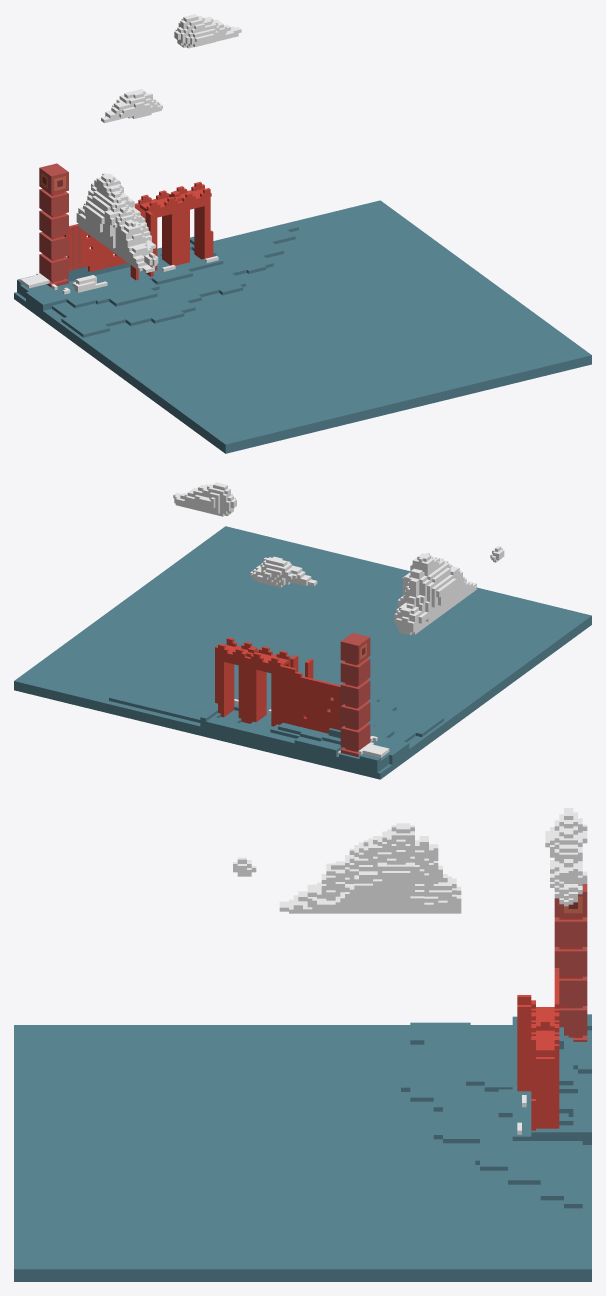
File: sea.fbx
3 views of the same model, one above another, from view 1: azimuth 30°, elevation 25°; view 2: azimuth 150°, elevation 25°; view 3: azimuth 270°, elevation 25° (orthographic). The views are drawn at different scales.
Visible parts, largest first — view 1: 对象; view 2: 对象; view 3: 对象.
Part boxes in pixels (<box>): 对象: <box>14,14,591,453</box>; 对象: <box>14,482,591,779</box>; 对象: <box>14,808,591,1281</box>.
Bounding box in the file's own units: 124 × 80 × 124.
Materials: 1 (1 with a texture image).
